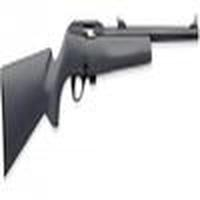gun: (1, 18, 199, 161)
